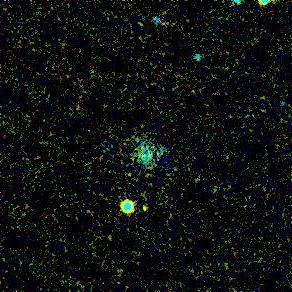star: (131, 193, 161, 223)
